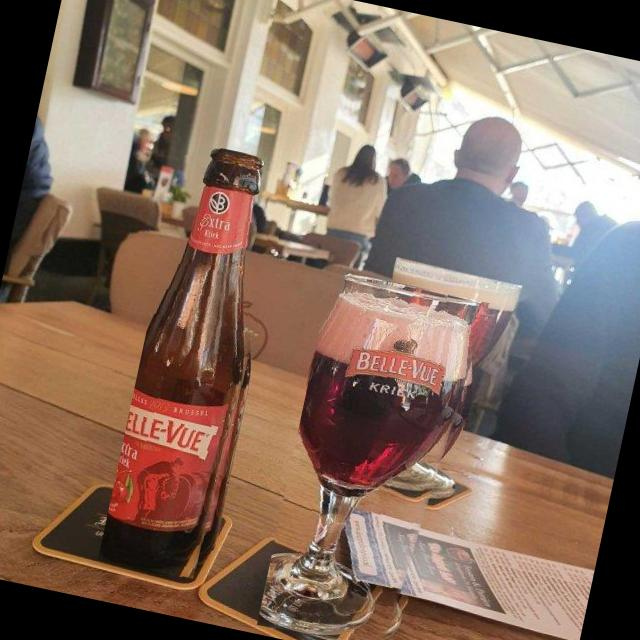Glass: (97, 141, 297, 584), (256, 269, 489, 640)
